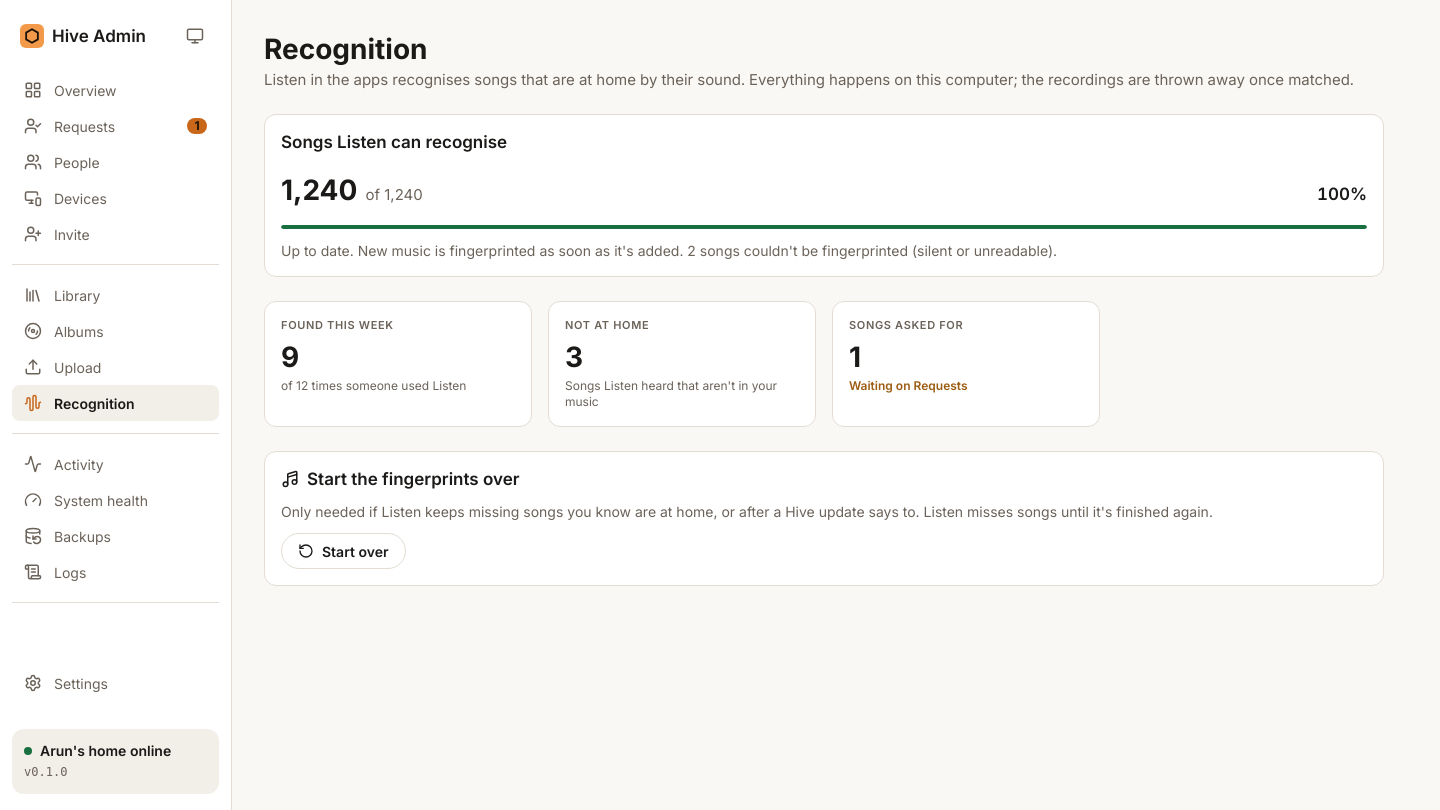
Scenario: Recognition › starts the fingerprints over after asking
Expected: the text "Up to date" is shown, [281,242,683,259]
Click the button "Start over": coordinates (343, 551) [281,533,406,569]
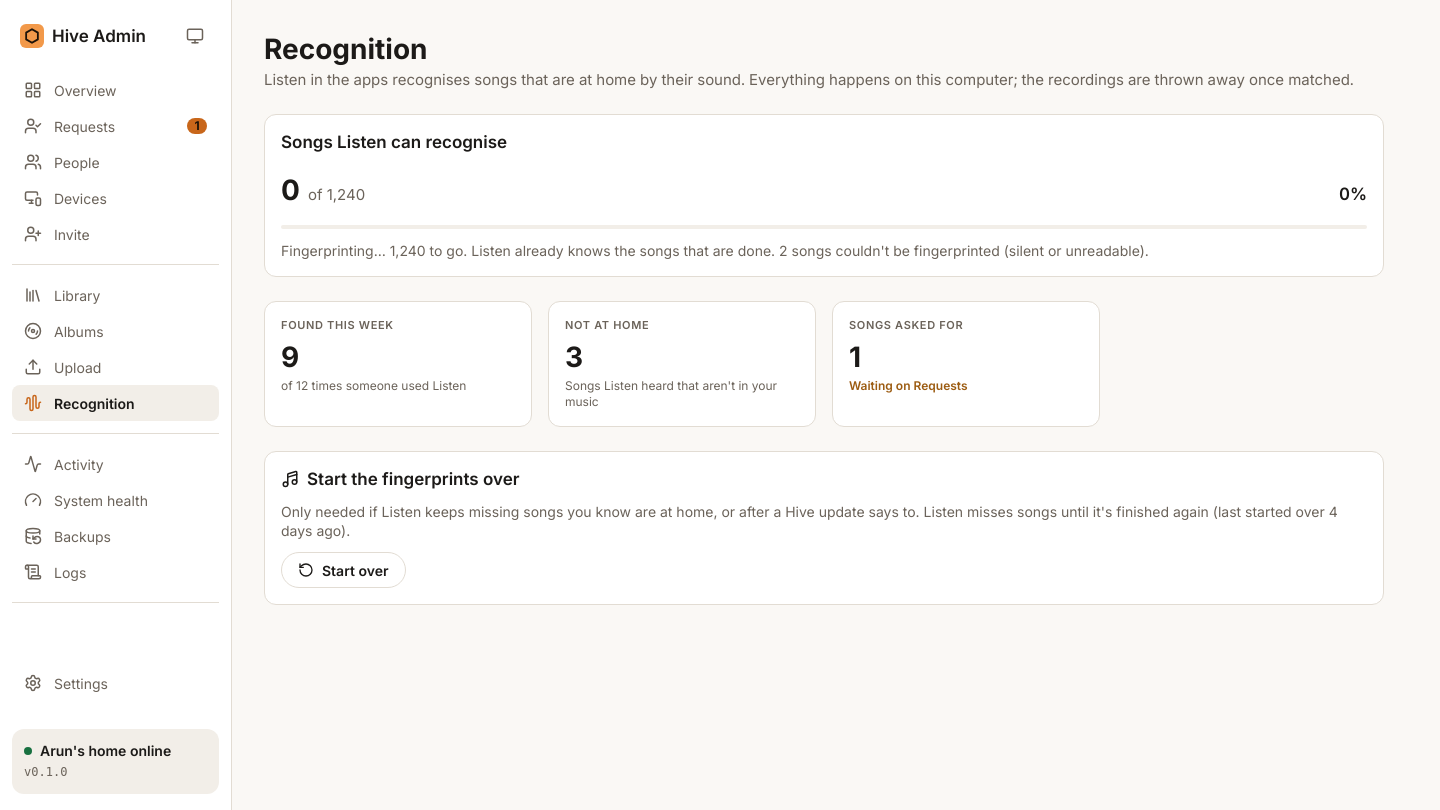
Expected: the text "1,240 to go" is shown, [281,242,775,259]
